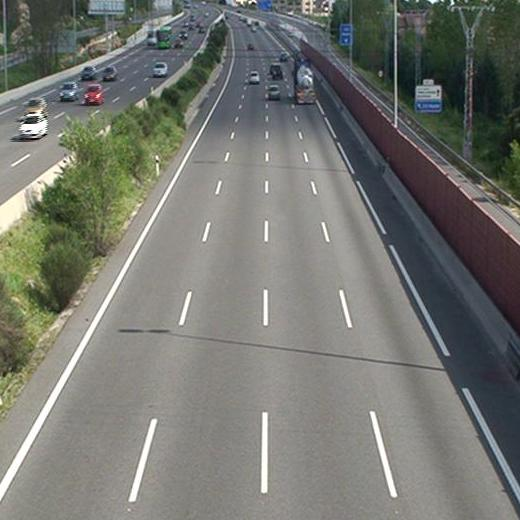car: (267, 84, 279, 98), (271, 65, 281, 79), (250, 71, 260, 83)
tank-truck: (291, 59, 317, 106)
